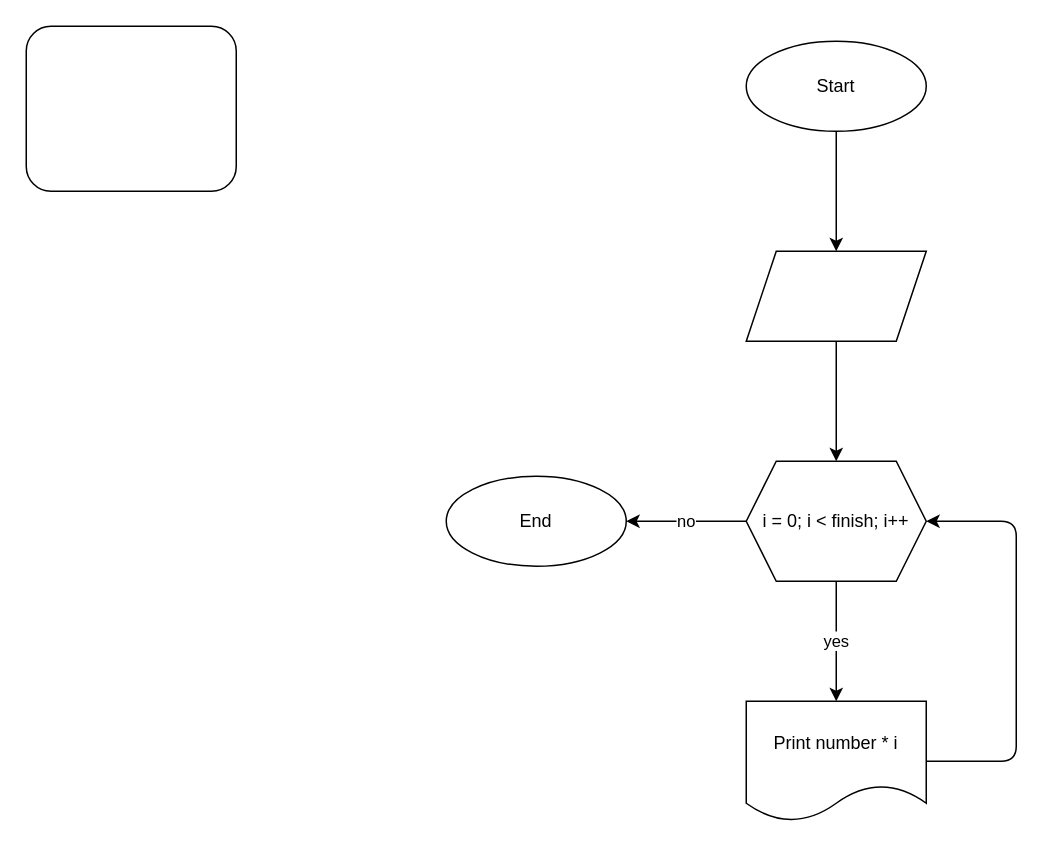
This 1055x848 diagram has some shape labels left out. Here are the shapes that lost their labels. From the top down, the centre of each, then its label:
At point 130,108: "Написать программу вычисления произведения чисел от 1 до N".
At point 835,295: "factor, finish".
